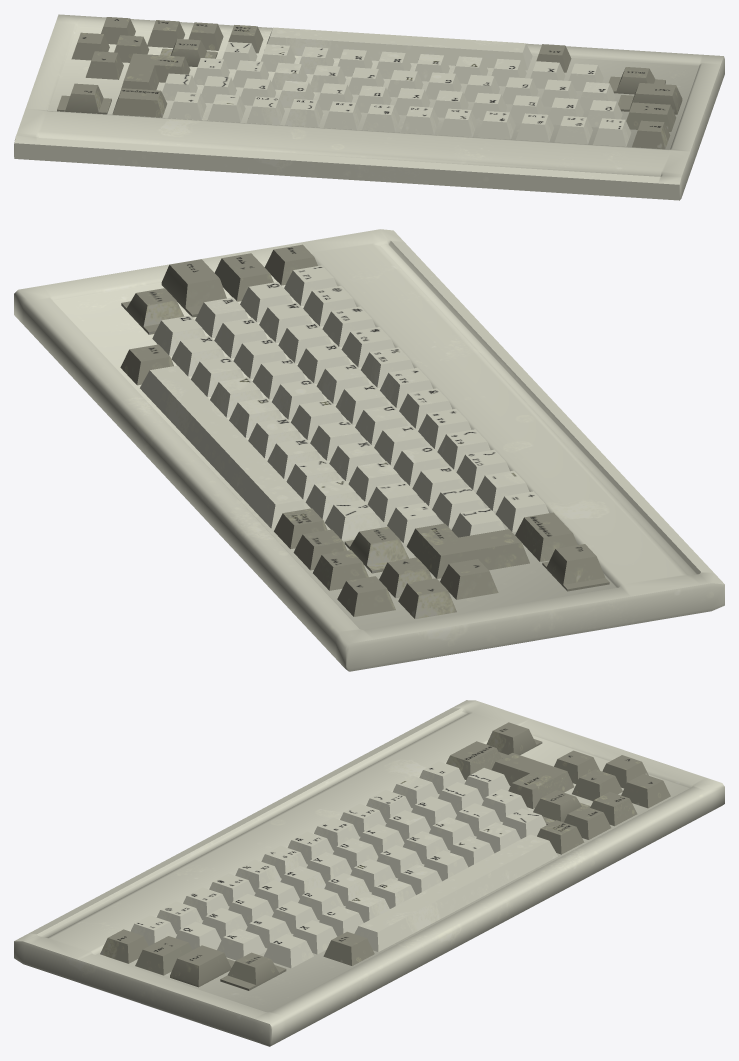
File: Keyboard.fbx
3 renders of one model, top to bottom at view 1: azimuth 30°, elevation 25°; view 2: azimuth 150°, elevation 25°; view 3: azimuth 270°, elevation 25°, orthographic. The views are drawn at different scales.
Parts seen in each view (by area): view 1: Keyboard_Cylinder:020_Cylinder:044; view 2: Keyboard_Cylinder:020_Cylinder:044; view 3: Keyboard_Cylinder:020_Cylinder:044.
Boxes of the visible parts, x1,y1,x2,y2 form: Keyboard_Cylinder:020_Cylinder:044: (14, 14, 724, 200); Keyboard_Cylinder:020_Cylinder:044: (14, 229, 724, 671); Keyboard_Cylinder:020_Cylinder:044: (14, 700, 724, 1046).
Size of the model in its own units: 266 by 14.53 by 244.
1 material, 1 textured.
